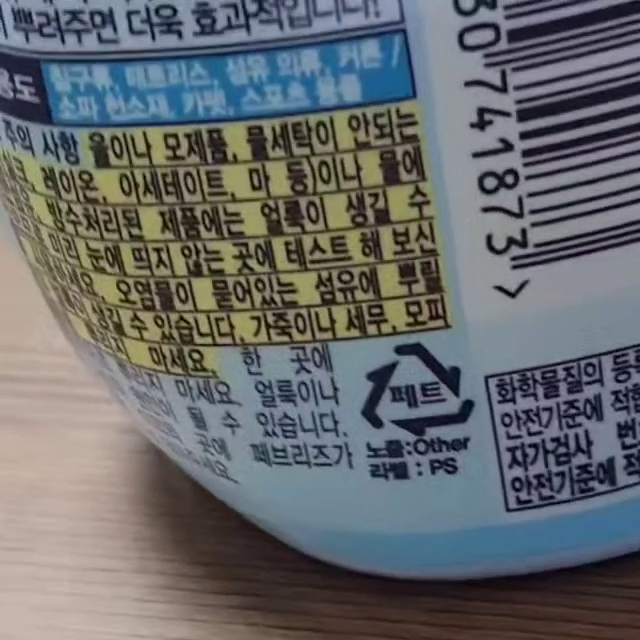Plastic: (358, 342, 475, 439)
